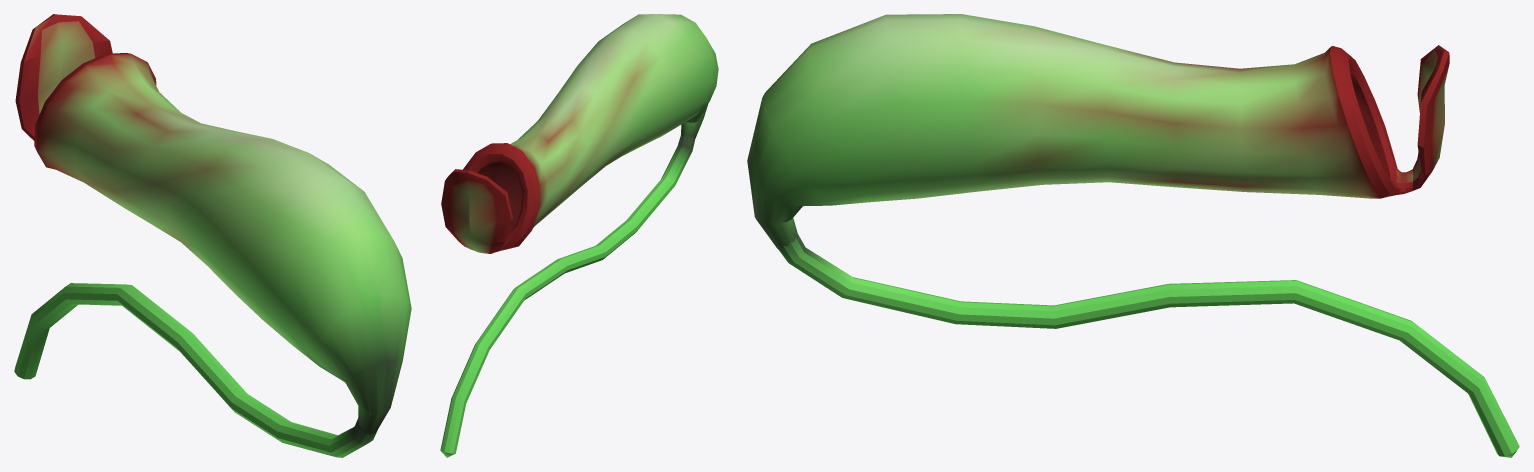
The model's file is PitcherPlant1.3.fbx.
The picture shows the model from 3 angles, left to right: view 1: azimuth 30°, elevation 25°; view 2: azimuth 150°, elevation 25°; view 3: azimuth 270°, elevation 25°; orthographic projection. The views are drawn at different scales.
Parts seen in each view (by area): view 1: PitcherPlant; view 2: PitcherPlant; view 3: PitcherPlant.
Part boxes in pixels (x1=…): PitcherPlant: x1=14, y1=14, x2=411, y2=457; PitcherPlant: x1=440, y1=14, x2=718, y2=457; PitcherPlant: x1=747, y1=14, x2=1519, y2=457.
Bounding box in the file's own units: 184 × 578 × 924.
